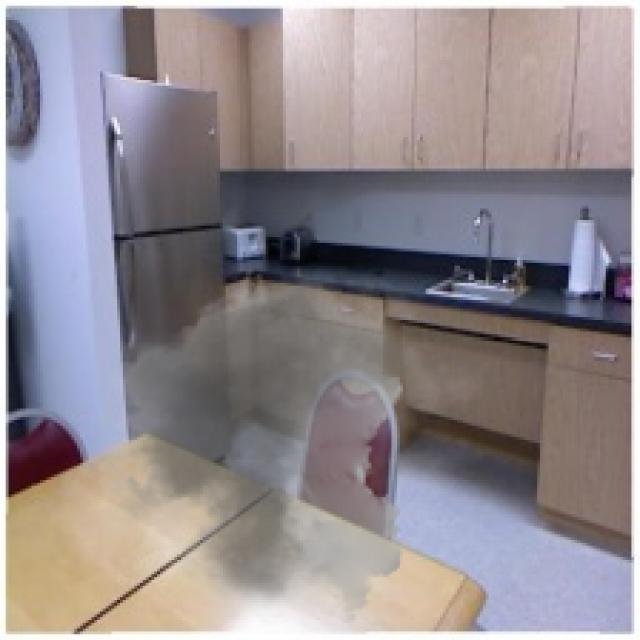Smoke: (77, 255, 486, 634)
